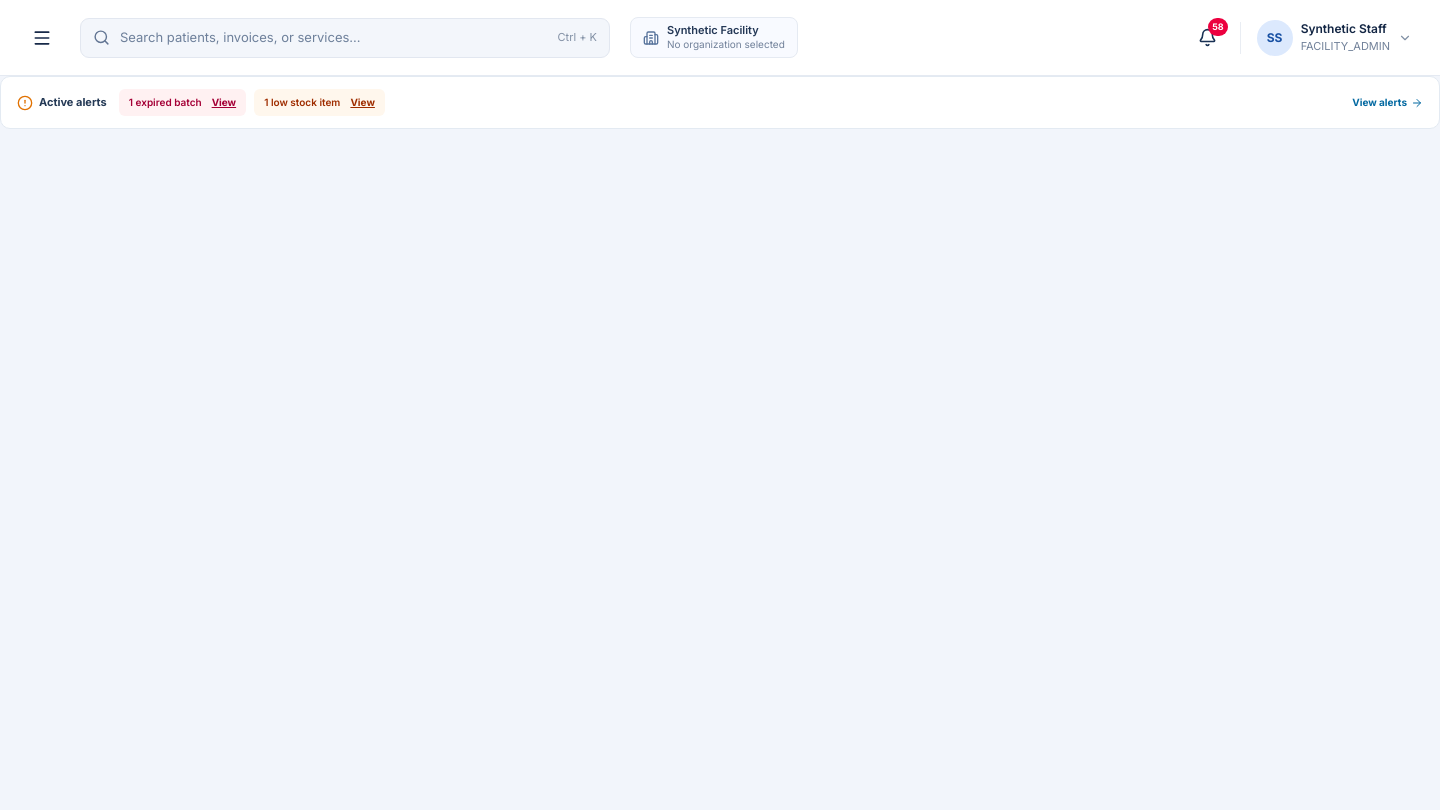
Scenario: notification centre behavior › pages through records and recovers if the last page becomes empty
The image size is (1440, 810).
What coordinates should you click on to do the following:
click the button named "Notifications, 58 unread"
I would click on:
 (1208, 38)
Its box is x1=1188 y1=18 x2=1228 y2=58.
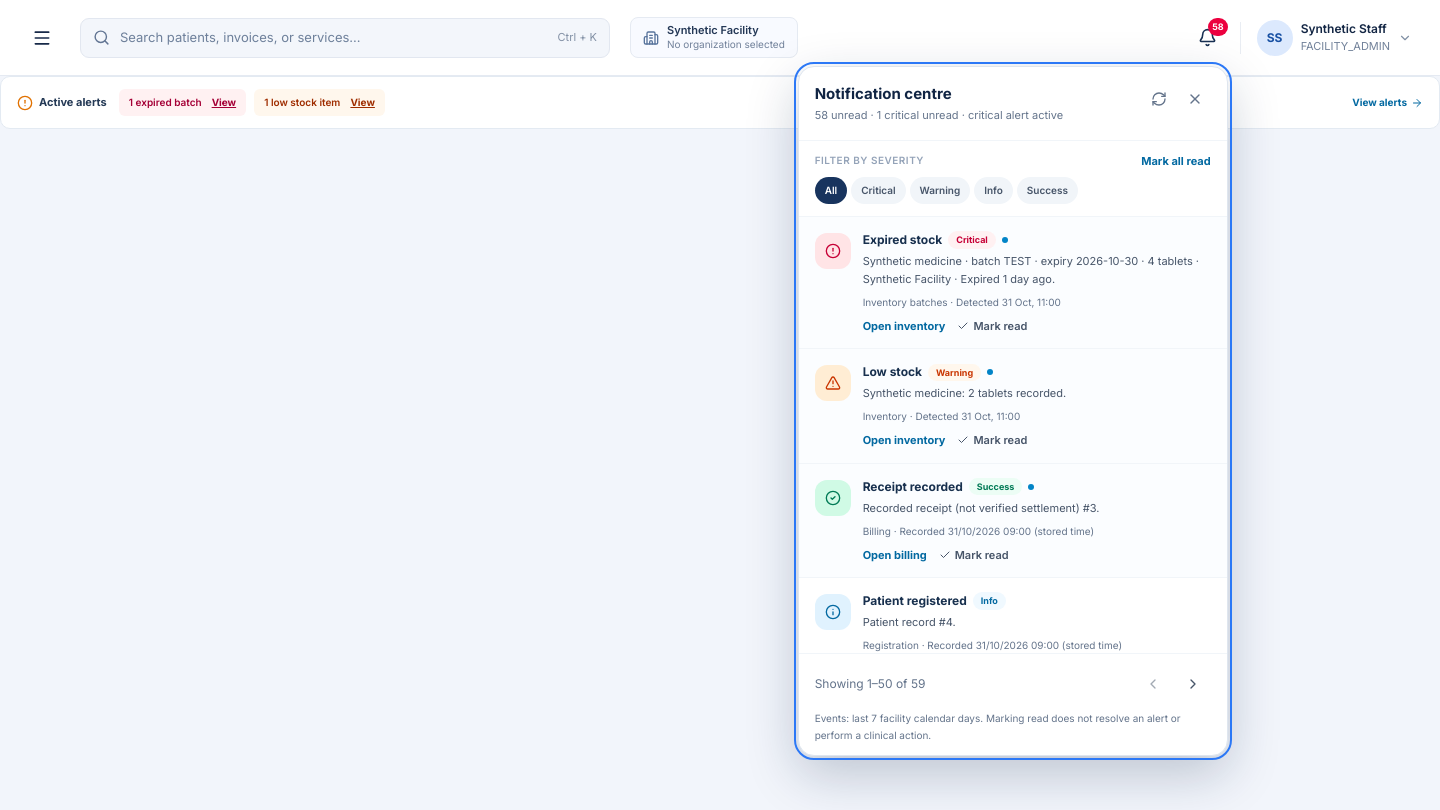
Now the text "Showing 1–50 of 59" is shown, box x1=815 y1=676 x2=926 y2=692
What coordinates should you click on to do the following:
click the button named "Next notifications"
I would click on:
 (1193, 684)
Its box is x1=1175 y1=666 x2=1211 y2=702.
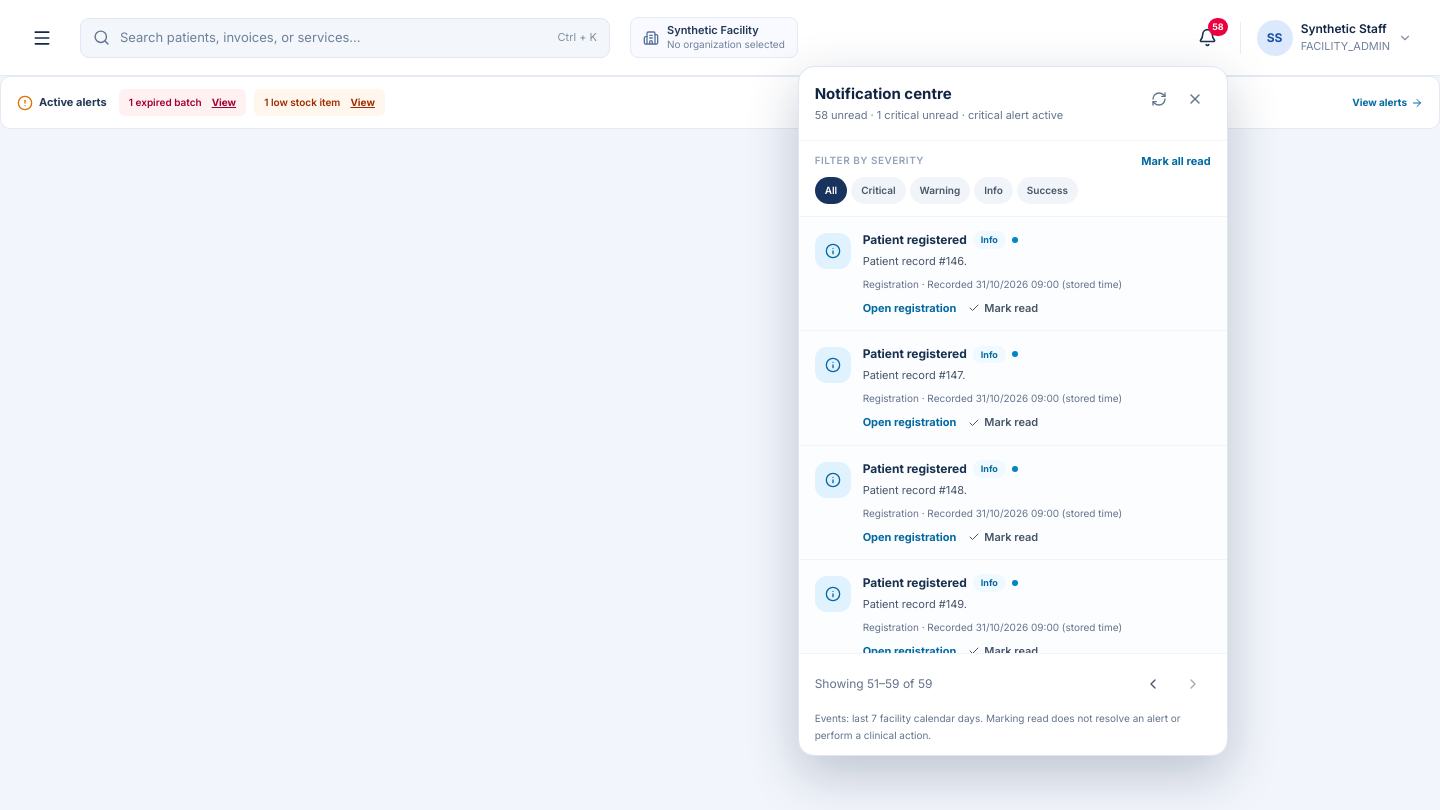
Now the text "Showing 51–59 of 59" is shown, box x1=815 y1=676 x2=932 y2=692
What coordinates should you click on to do the following:
click the button named "Refresh notifications"
I would click on:
 (1159, 98)
Its box is x1=1143 y1=82 x2=1175 y2=114.
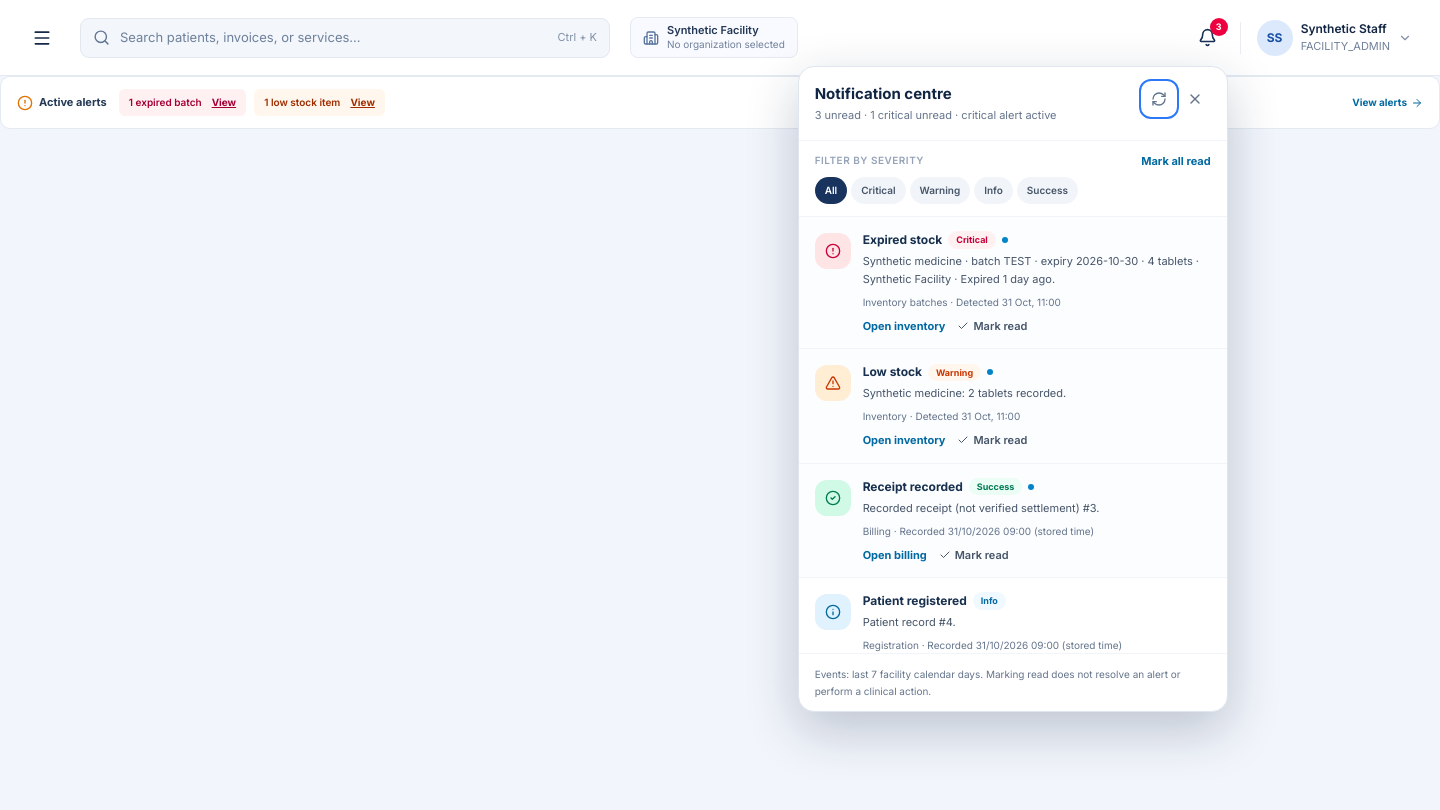
Now the text "Expired stock" is shown, box x1=863 y1=231 x2=942 y2=249
Now the text "Showing 51" is gone
